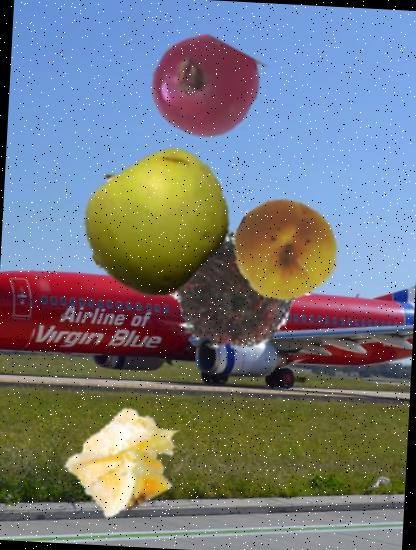Apple: (80, 145, 234, 299)
Peach: (230, 196, 341, 306)
Physalis: (64, 395, 193, 524)
Rambutan: (157, 218, 299, 359)
Redcurrant: (150, 31, 260, 142)
